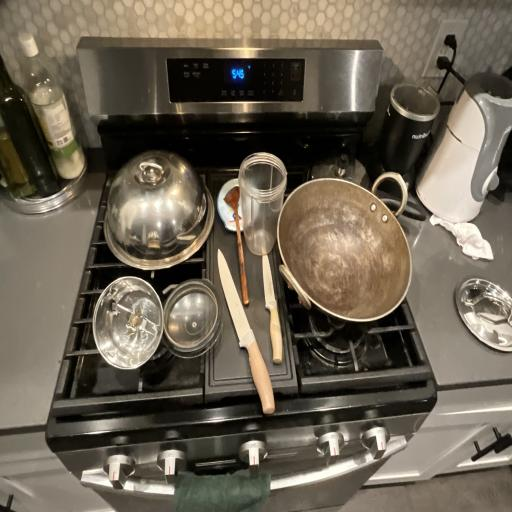Flame: (263, 157, 439, 341)
Stove: (48, 34, 456, 489)
knife: (209, 236, 288, 424), (252, 233, 291, 363)
